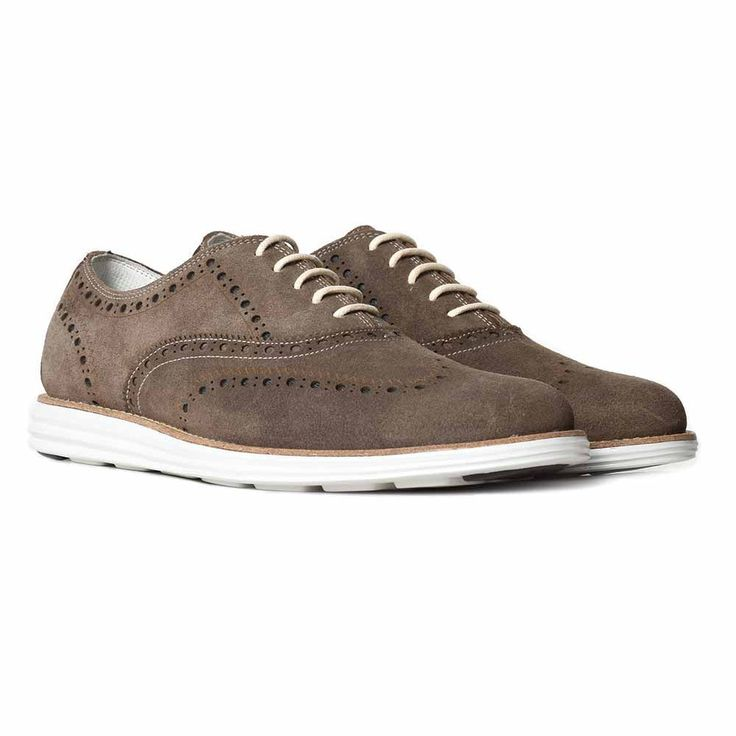gamuza: (39, 224, 688, 451)
